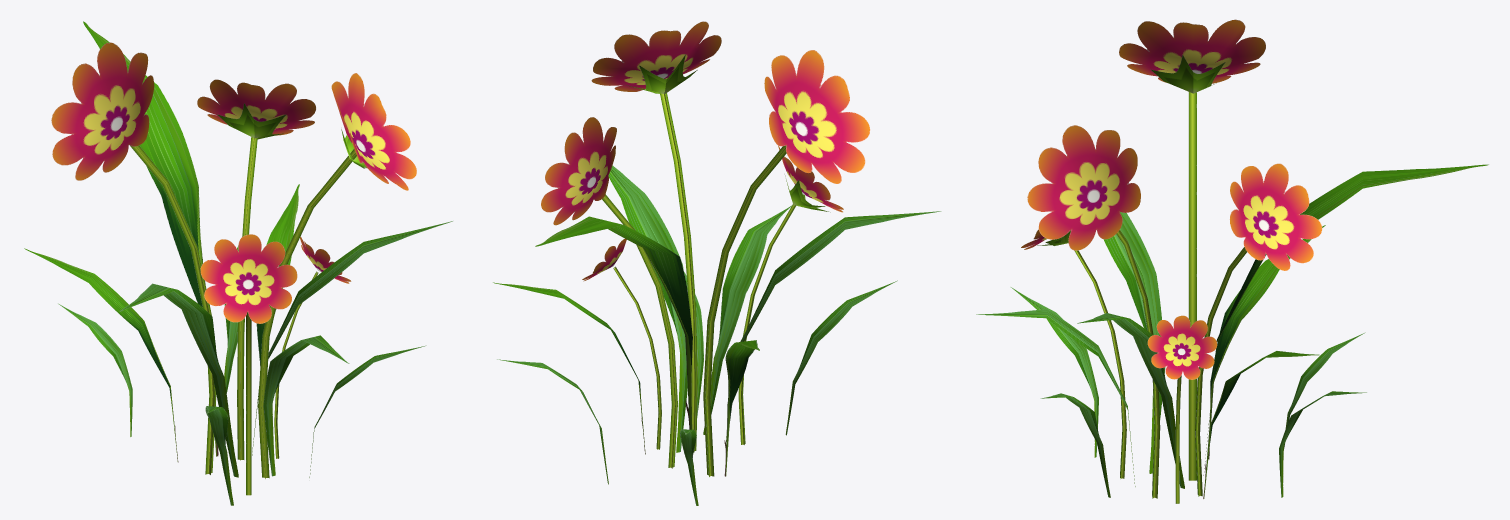
Rendered from Flower_07.FBX.
The picture shows the model from 3 angles, left to right: view 1: azimuth 30°, elevation 25°; view 2: azimuth 150°, elevation 25°; view 3: azimuth 270°, elevation 25°; orthographic projection. The views are drawn at different scales.
Parts seen in each view (by area): view 1: Flower_07; view 2: Flower_07; view 3: Flower_07.
Boxes of the visible parts, left/top/right/bottom form: Flower_07: left=24, top=21, right=452, bottom=505; Flower_07: left=493, top=21, right=941, bottom=505; Flower_07: left=976, top=19, right=1488, bottom=503.
Bounding box in the file's own units: 45.75 × 52.53 × 56.98.
